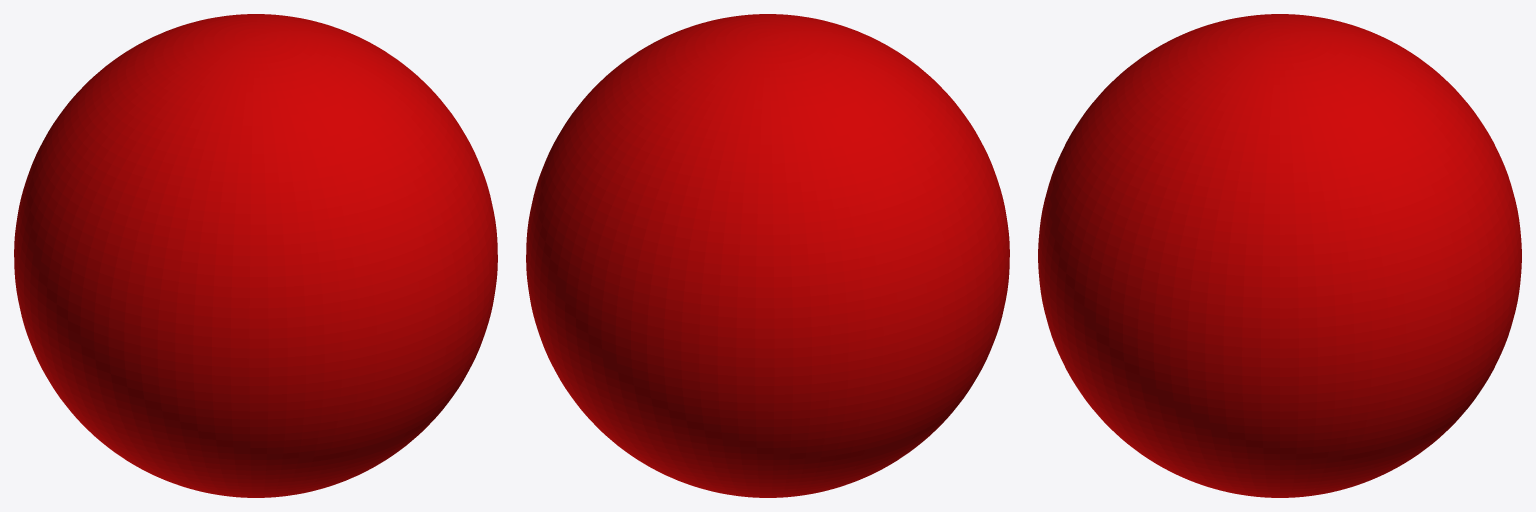
The model's file is ComplexRedBall.obj.
3 views of the same model, side by side, from view 1: azimuth 30°, elevation 25°; view 2: azimuth 150°, elevation 25°; view 3: azimuth 270°, elevation 25° (orthographic).
Parts seen in each view (by area): view 1: Sphere; view 2: Sphere; view 3: Sphere.
Boxes of the visible parts, left/top/right/bottom form: Sphere: left=14, top=14, right=497, bottom=497; Sphere: left=526, top=14, right=1009, bottom=497; Sphere: left=1038, top=14, right=1521, bottom=497.
Size of the model in its own units: 2 by 2 by 2.
